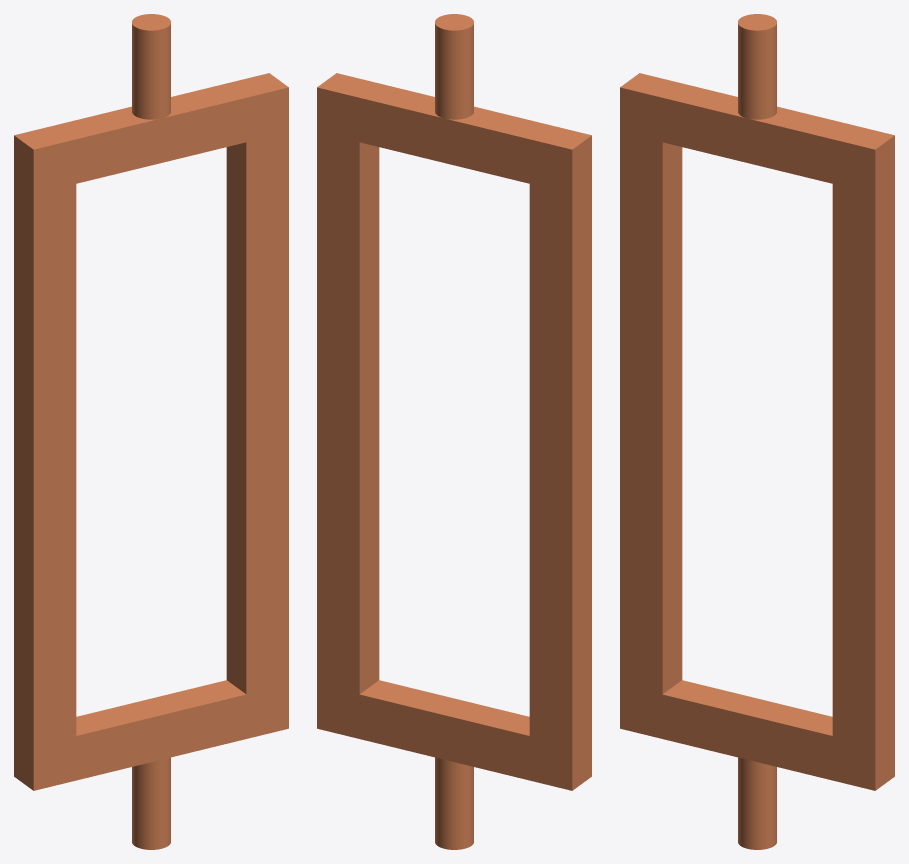
Rendered from Gimbal3.gltf.
The picture shows the model from 3 angles, left to right: view 1: azimuth 30°, elevation 25°; view 2: azimuth 150°, elevation 25°; view 3: azimuth 330°, elevation 25°; orthographic projection.
Parts seen in each view (by area): view 1: Part 2; view 2: Part 2; view 3: Part 2.
Part boxes in pixels (x1,y1,x2,y2): Part 2: (14, 14, 288, 849); Part 2: (317, 14, 591, 849); Part 2: (620, 14, 894, 849).
Size of the model in its own units: 0.015 by 0.046 by 0.002.
